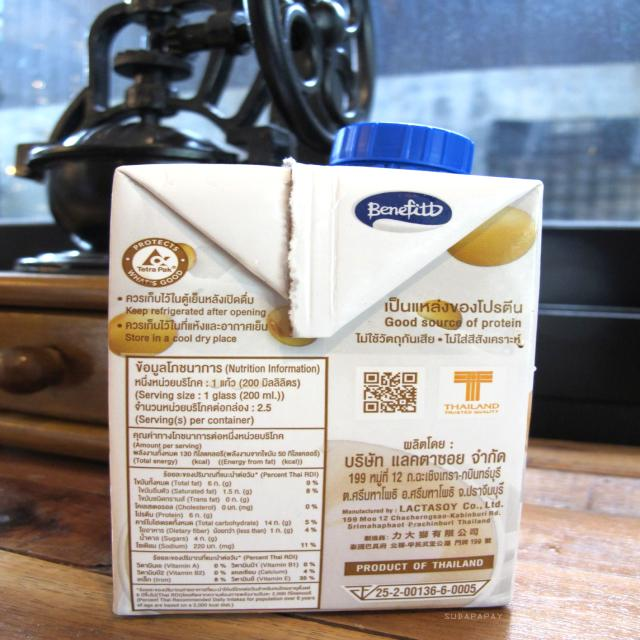cardboard: (110, 121, 530, 614)
